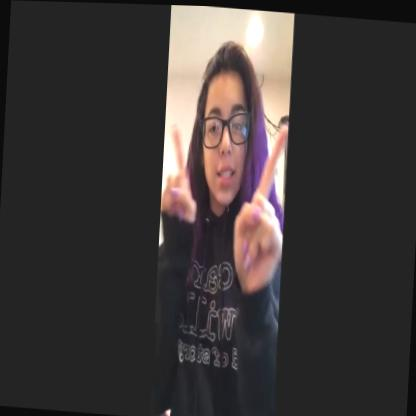NiceToMeetYou: (157, 108, 286, 299)
